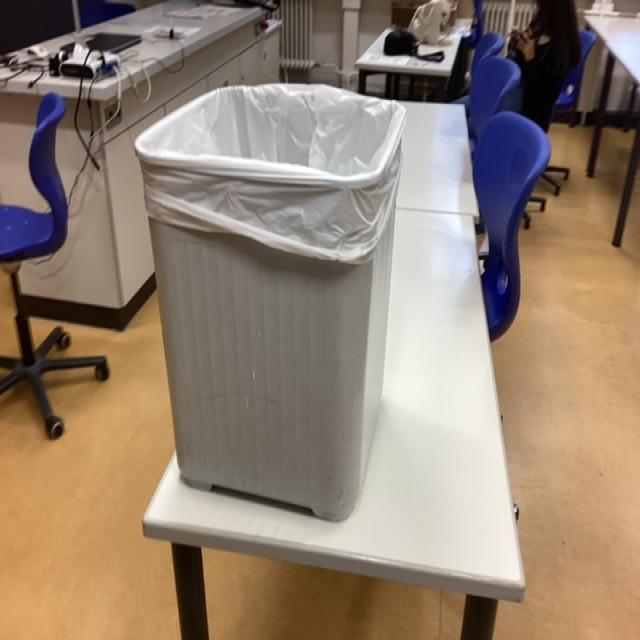garbage container: (119, 64, 416, 537)
